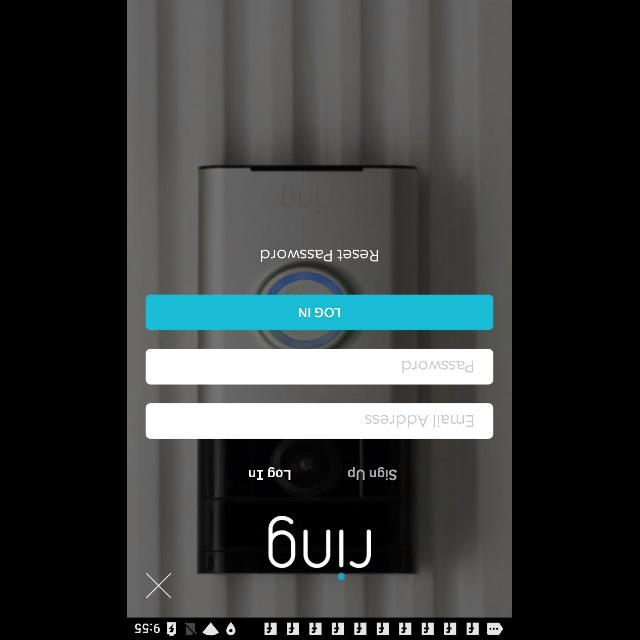backgroundimage: (128, 0, 512, 618)
icon: (146, 572, 172, 598)
image: (269, 516, 371, 580)
input: (146, 403, 494, 439), (146, 349, 494, 385)
text: (366, 414, 474, 428), (261, 250, 379, 262), (402, 361, 473, 374), (348, 466, 398, 480), (249, 466, 291, 479)
textbutton: (146, 294, 494, 330)
uppertaskbar: (128, 617, 512, 639)
